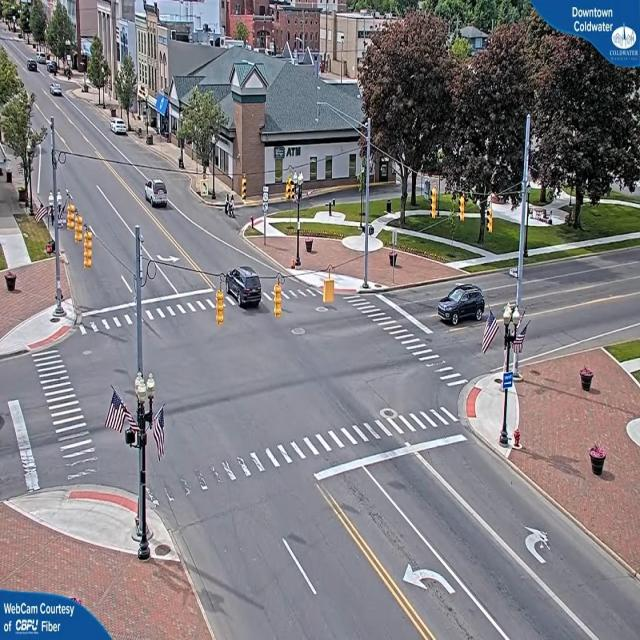car: (438, 282, 487, 327), (225, 267, 262, 310), (146, 180, 172, 211), (112, 121, 130, 138), (51, 84, 62, 97), (27, 60, 38, 72)
